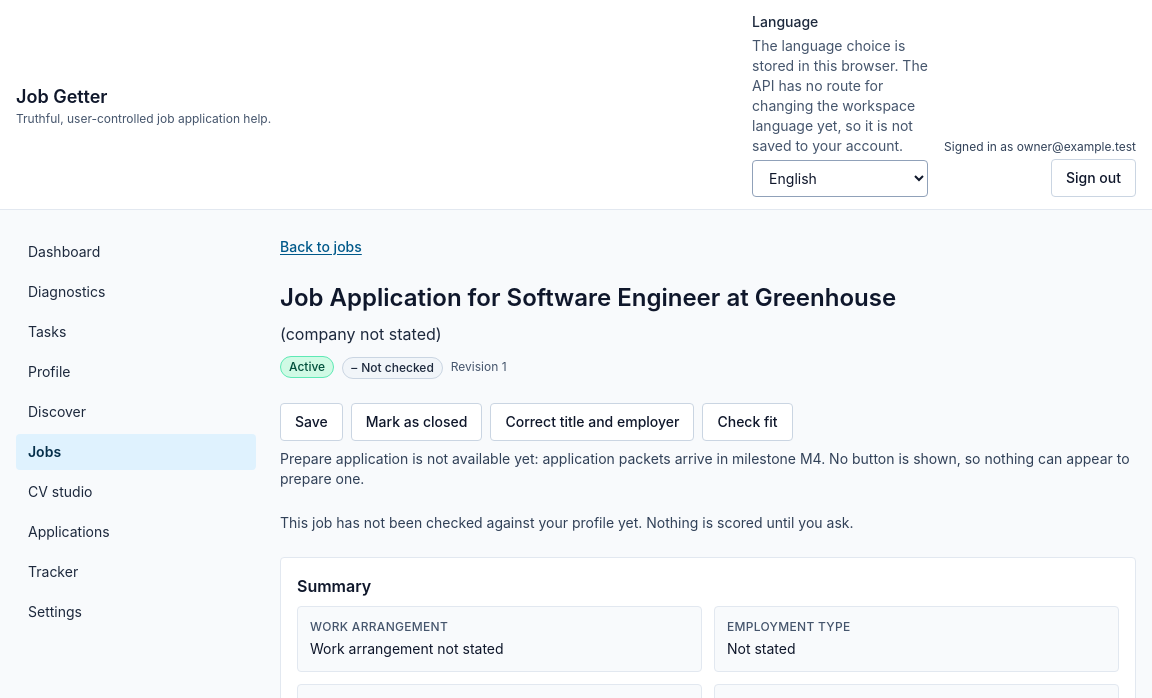
Scenario: job detail › corrects a title and employer the page got wrong, and says whose words they are
The width and height of the screenshot is (1152, 698).
Click the button "Correct title and employer". click: (592, 422)
box: [490,403,694,441]
(page scrolled)
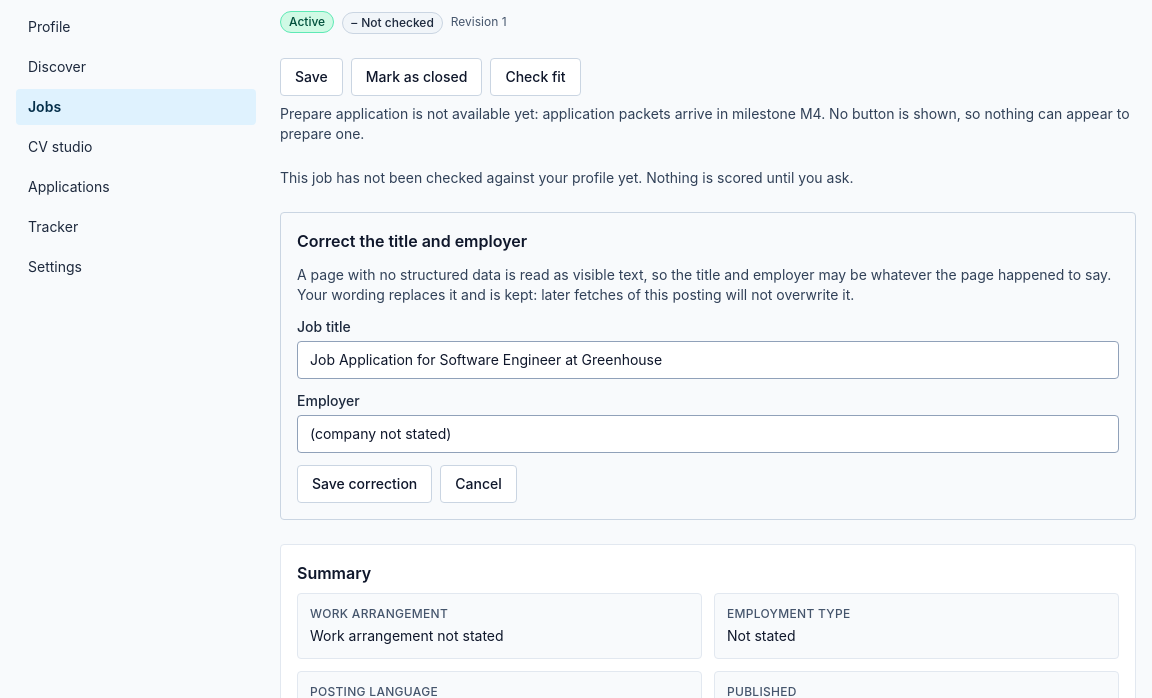
# An empty field is not a correction: both words reach the employer.
Clear the field labelled "Job title". click: (708, 360)
box: [297,341,1119,379]
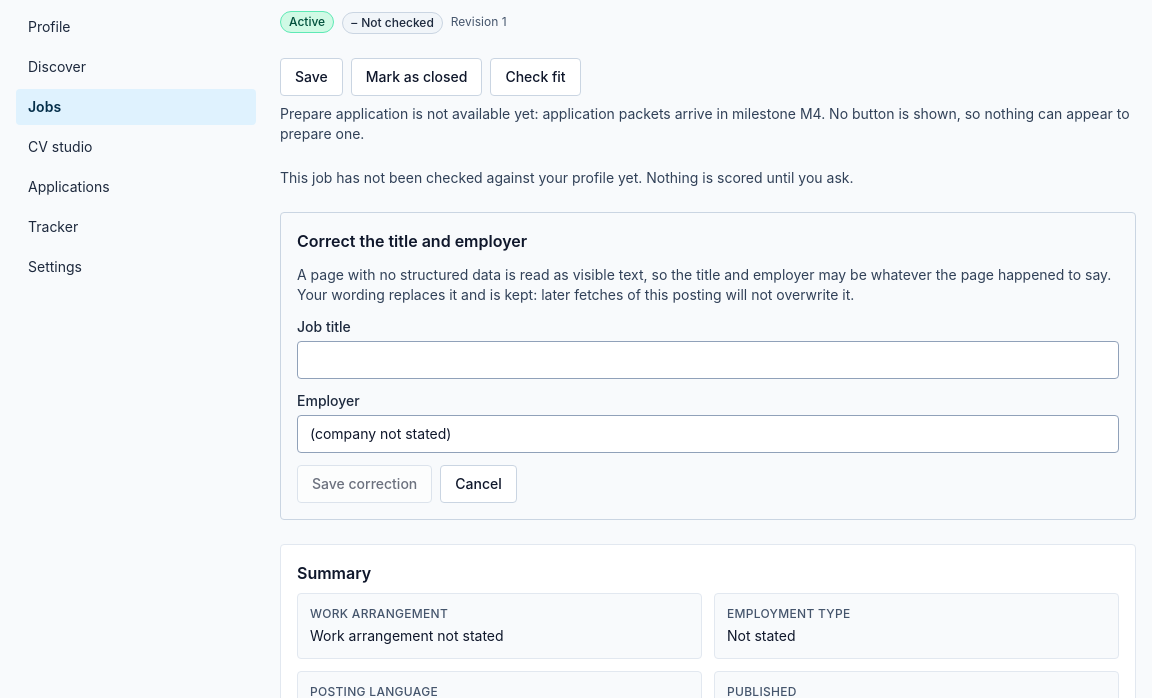
Now the button "Save correction" is disabled, box [297,465,432,503]
Type "Software Engineer" into the field labelled "Job title". click: (708, 360)
box: [297,341,1119,379]
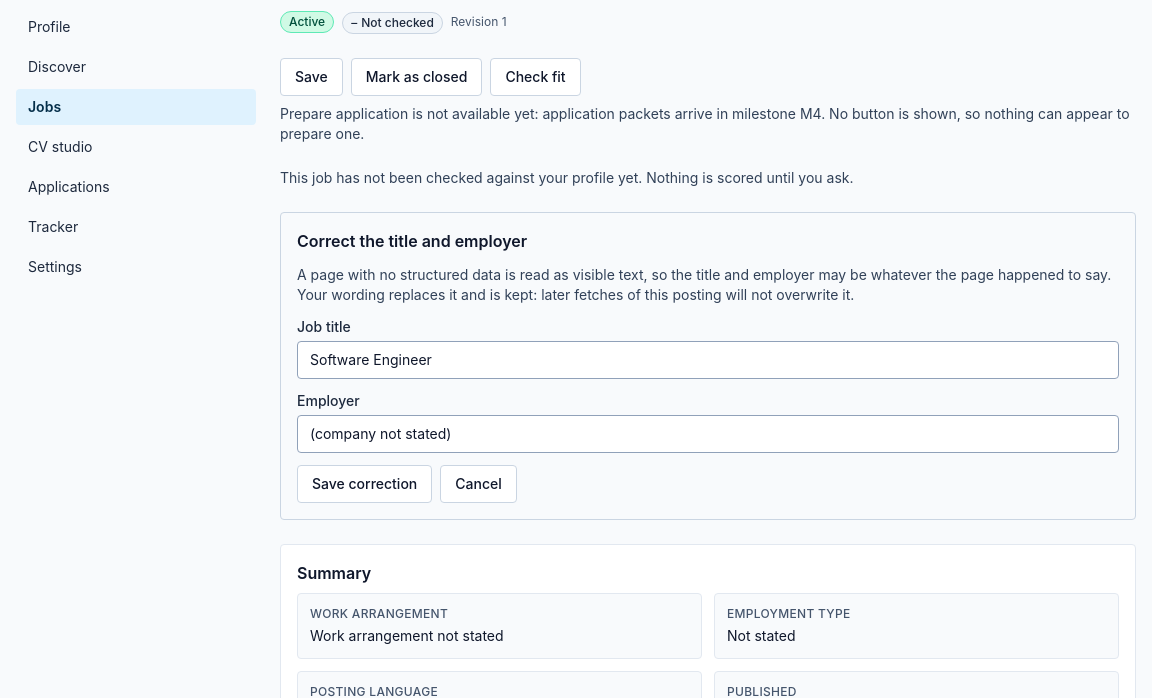
Replace the text in the field labelled "Employer" with "Greenhouse". click: (708, 434)
box: [297,415,1119,453]
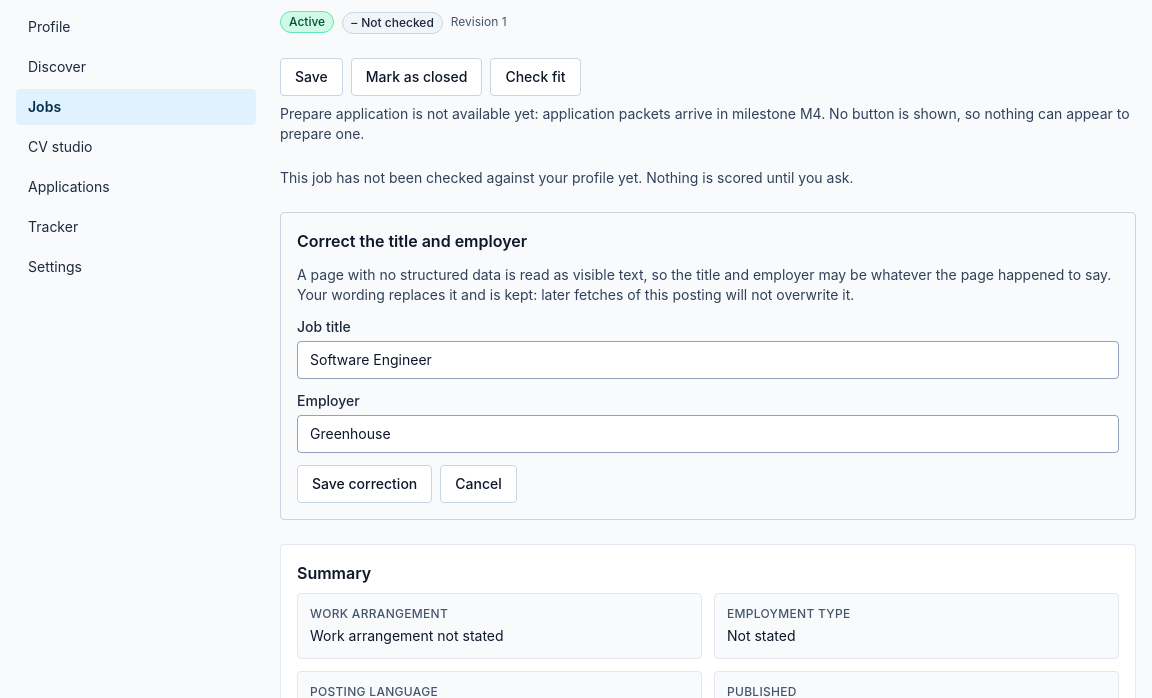
Click the button "Save correction". click: (365, 484)
box: [297,465,432,503]
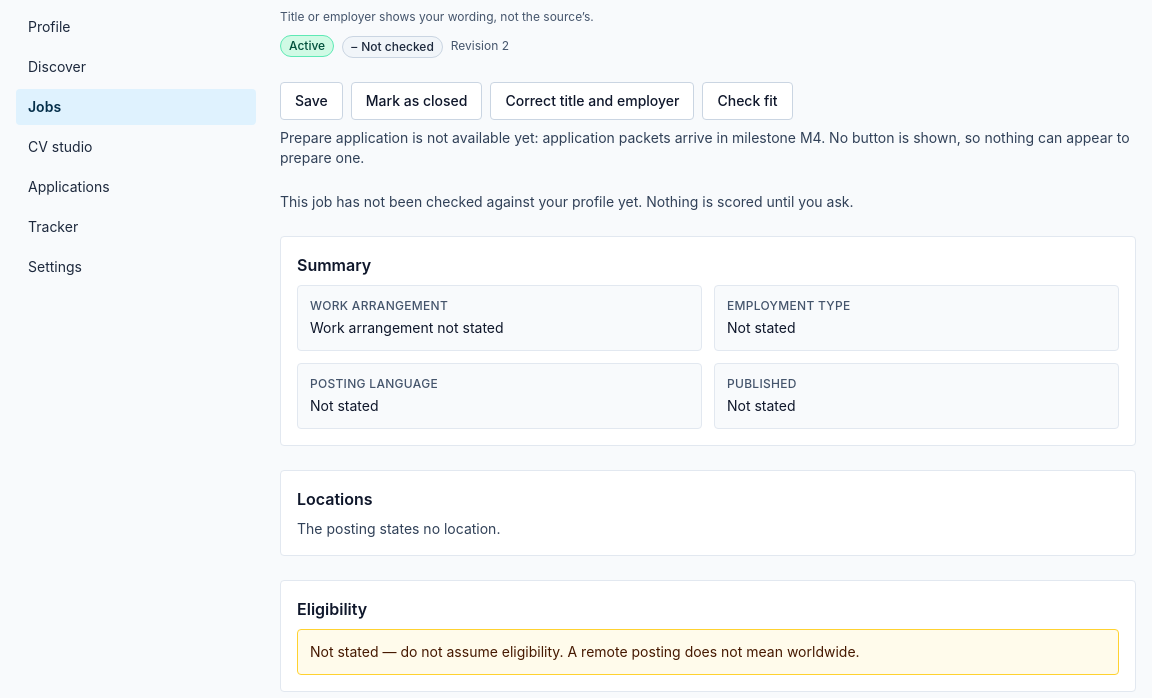
Now the text with test id "job-corrected" shows "your wording", box [280,9,594,24]
Now the element with test id "job-correction" is gone
